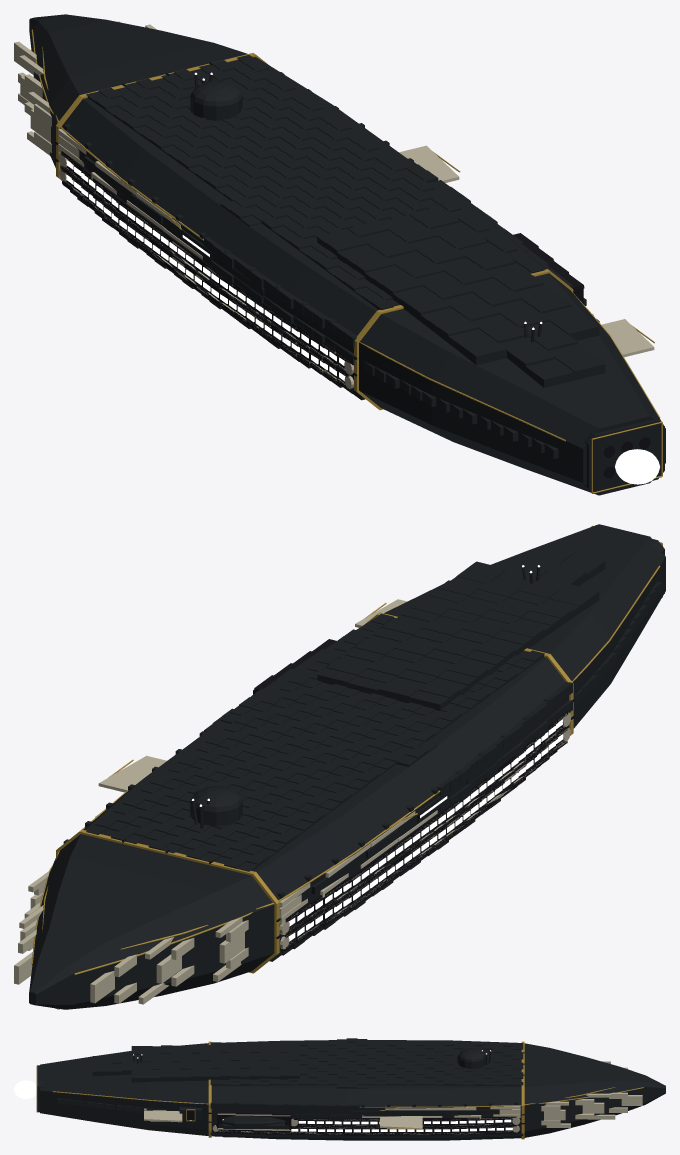
3 renders of one model, top to bottom at view 1: azimuth 30°, elevation 25°; view 2: azimuth 150°, elevation 25°; view 3: azimuth 270°, elevation 25°, orthographic. The views are drawn at different scales.
Parts seen in each view (by area): view 1: RIMWARD_HULL, RIMWARD_EMISSIVE, RIMWARD_ENGINE_GLOW; view 2: RIMWARD_HULL, RIMWARD_EMISSIVE; view 3: RIMWARD_HULL, RIMWARD_EMISSIVE, RIMWARD_ENGINE_GLOW.
Boxes of the visible parts, x1,y1,x2,y2 form: RIMWARD_HULL: [14, 14, 665, 495]; RIMWARD_EMISSIVE: [66, 72, 542, 381]; RIMWARD_ENGINE_GLOW: [615, 449, 659, 484]; RIMWARD_HULL: [14, 524, 665, 1009]; RIMWARD_EMISSIVE: [191, 565, 563, 941]; RIMWARD_HULL: [36, 1038, 665, 1140]; RIMWARD_EMISSIVE: [133, 1050, 512, 1132]; RIMWARD_ENGINE_GLOW: [14, 1080, 36, 1098].
Bounding box in the file's own units: 8.14 × 3.91 × 30.66.
